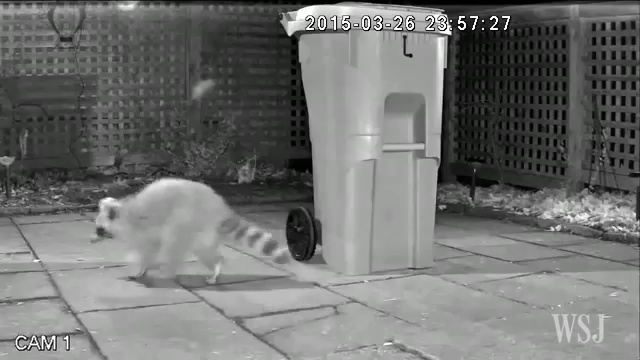raccoon: (88, 173, 298, 287)
